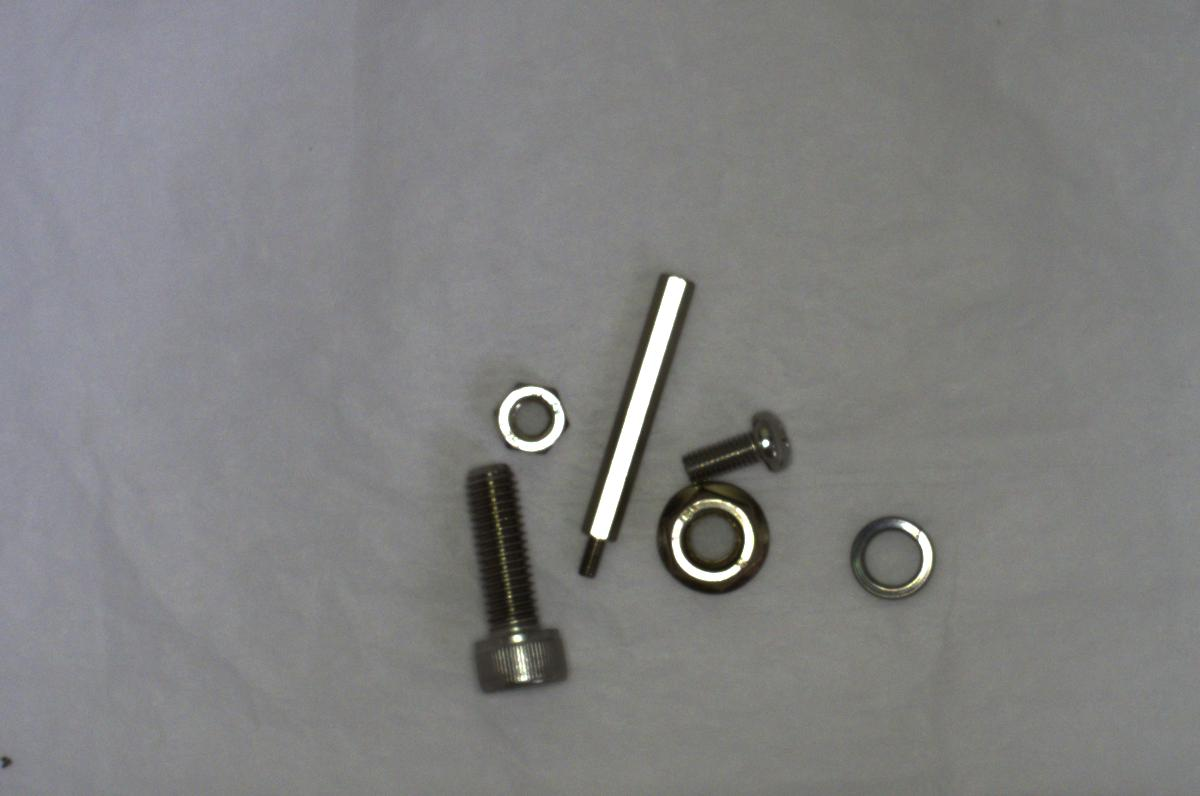Flange nut: (651, 483, 778, 602)
Hexagon nut: (487, 374, 578, 454)
Hexagon screw: (453, 452, 581, 706)
Hexagonal steel column: (578, 261, 680, 579)
Round head screw: (681, 405, 797, 483)
Spring washer: (842, 508, 942, 607)
